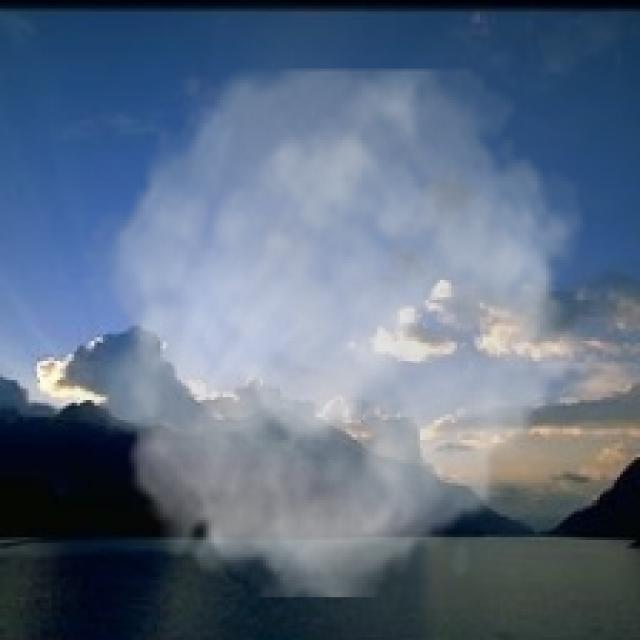smoke: (71, 69, 603, 597)
